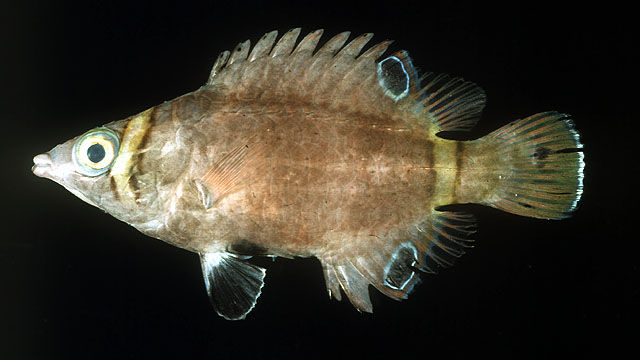fish: (31, 28, 586, 322)
